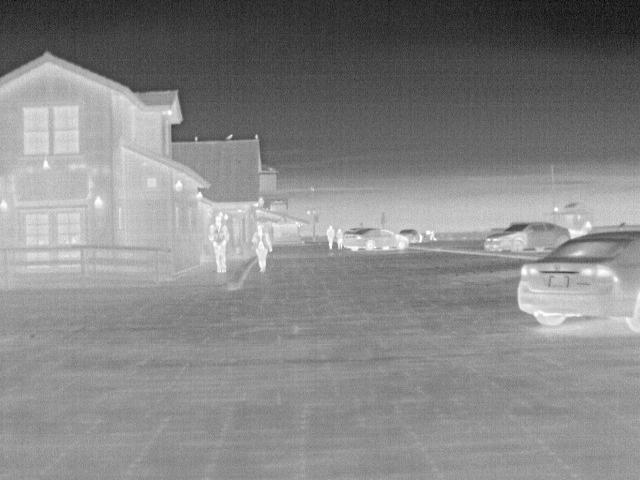car: (515, 230, 640, 332), (486, 220, 574, 256), (338, 225, 408, 252), (396, 228, 423, 243)
person: (208, 214, 228, 274), (251, 222, 274, 272), (324, 224, 337, 251), (332, 228, 344, 248)
